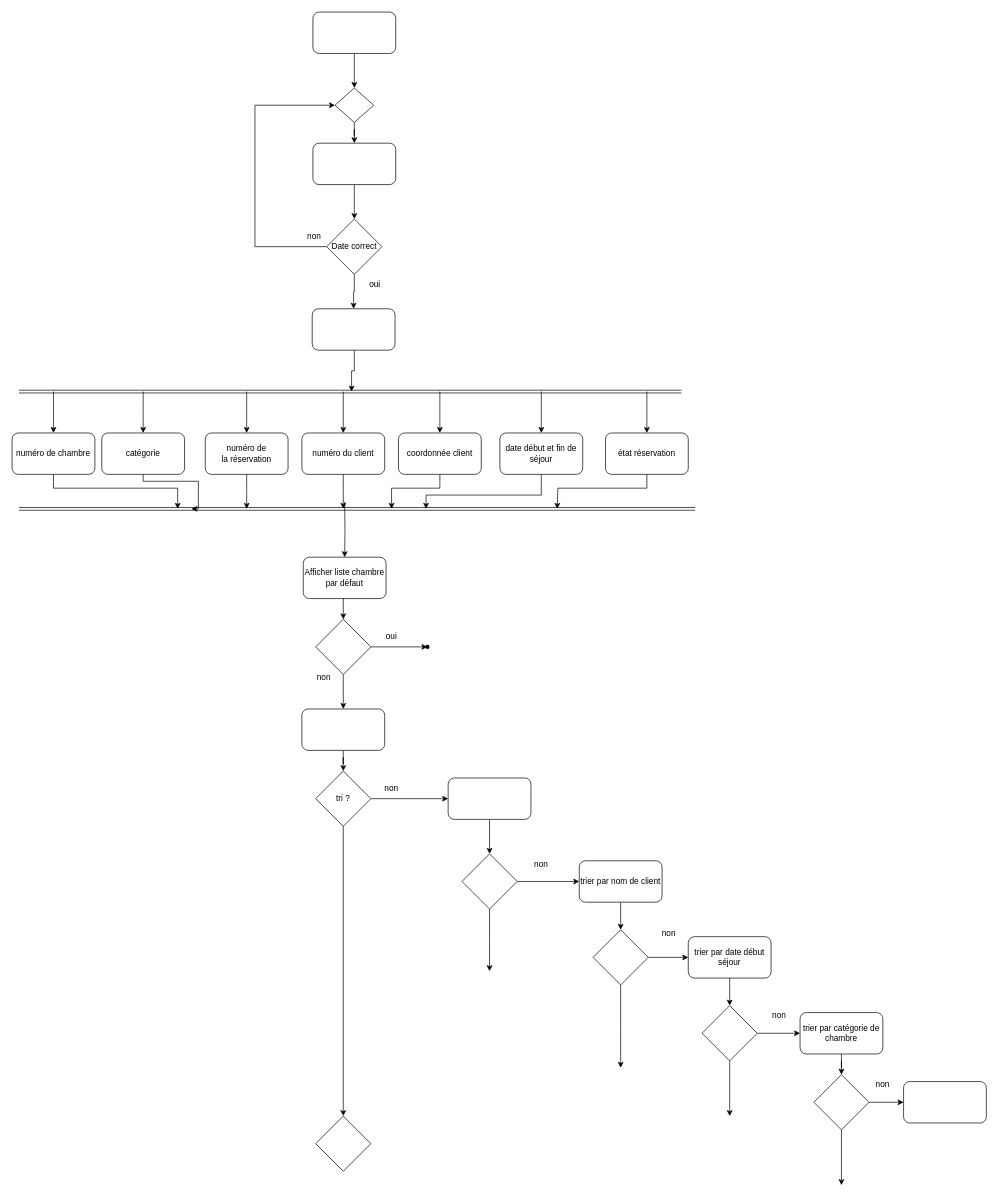
Some shapes in this 998 by 1203 pixel diagram are drawn without their labels. Each missing label, with the centre of its shape:
"afficher chaque chambre réservé à partir de cette date" goes at [353,329].
"Afficher listes chambres réservéses pour une date donnée" goes at [354,32].
"filtrer par numéro de chambre" goes at [343,729].
"indiquer une date" goes at [354,163].
"trier par numéro de client" goes at [489,798].
"trier état réservation" goes at [944,1102].
